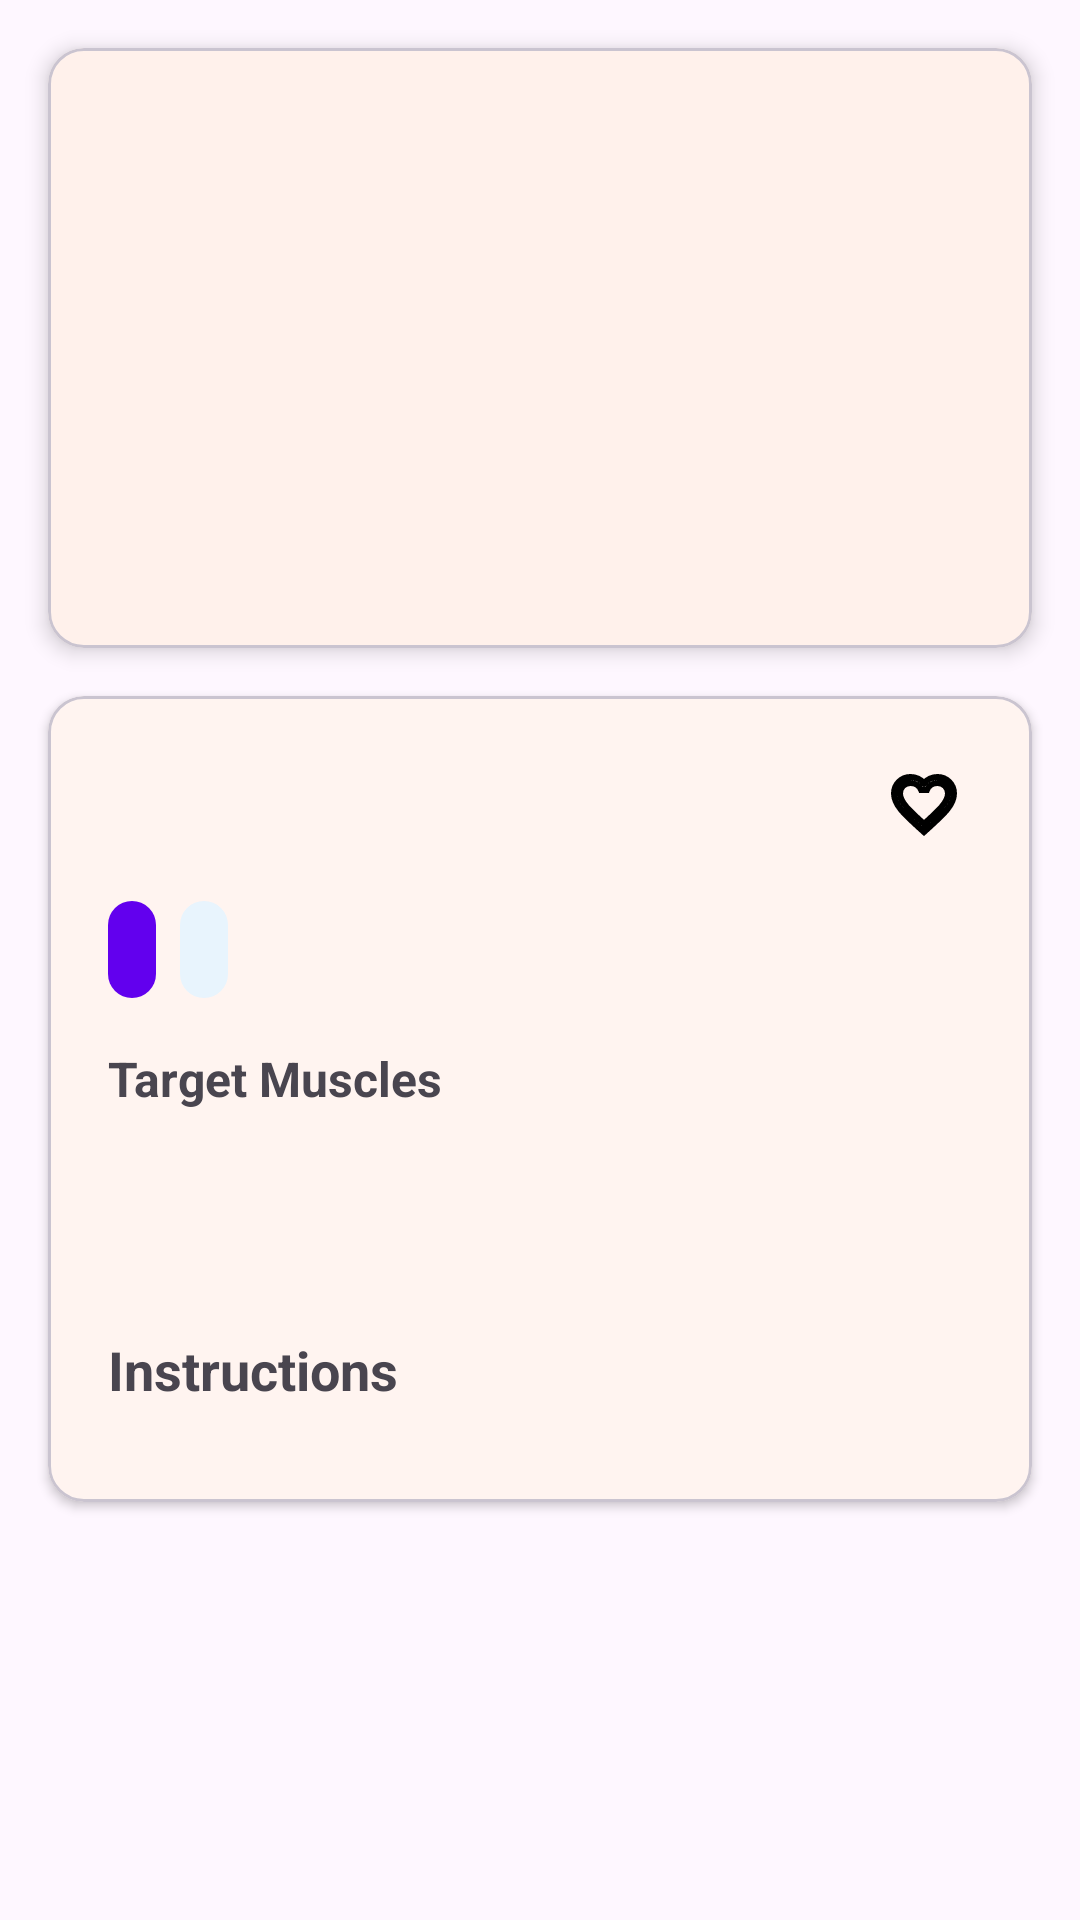

Where to tap for icons on this 1080x1920 app screen, as [x,y]:
Toggle favorite: [924,805]
